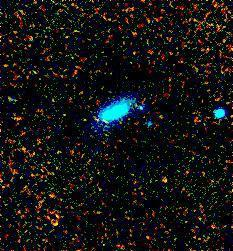star: (144, 164, 174, 194)
